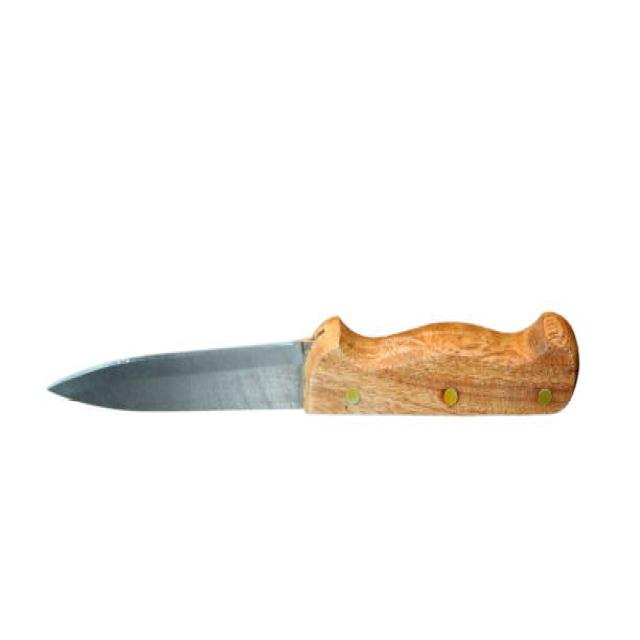knife: (43, 309, 581, 419)
